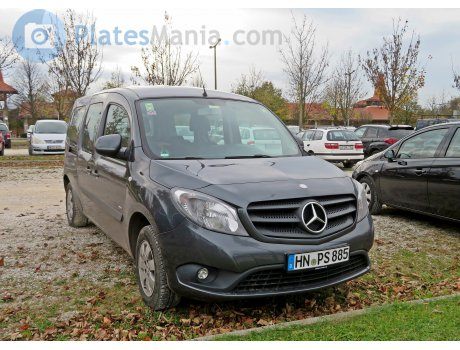License Plates: (292, 248, 353, 265)
